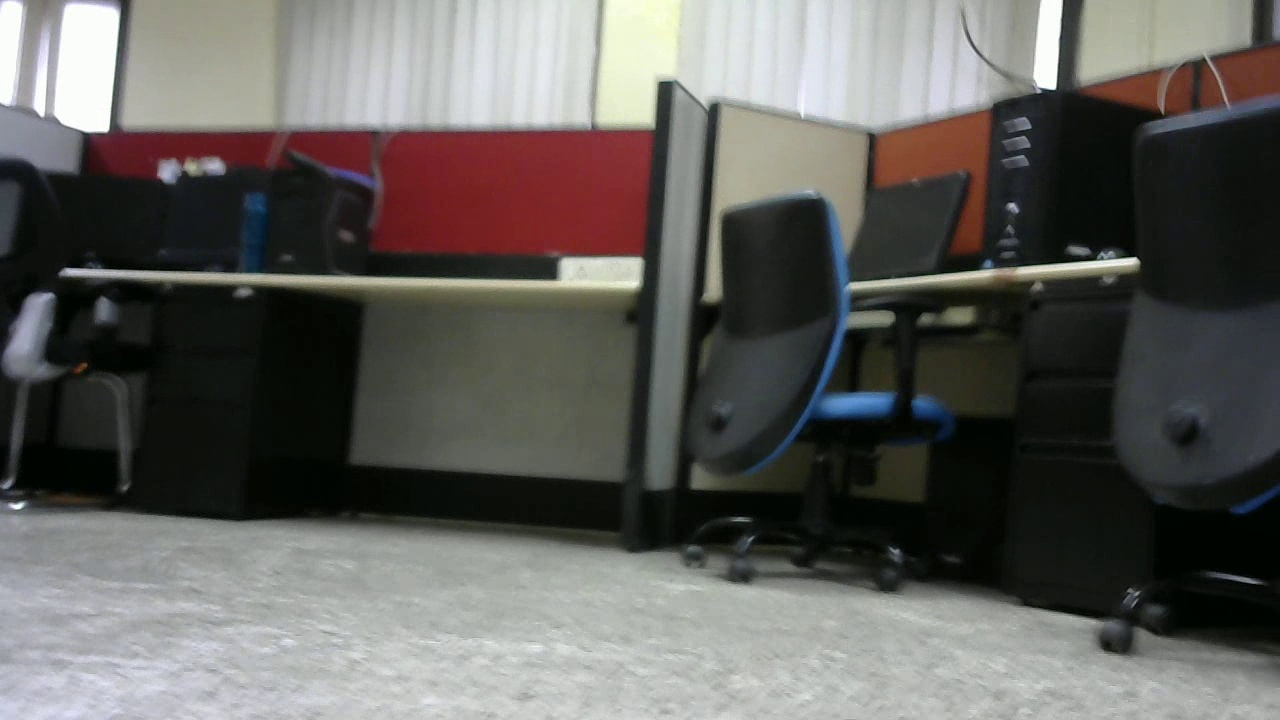chair: (593, 187, 958, 586)
